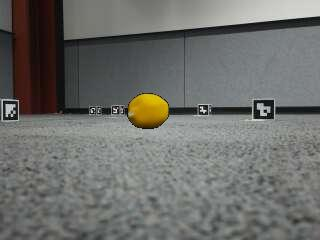lemon: (127, 94, 167, 129)
